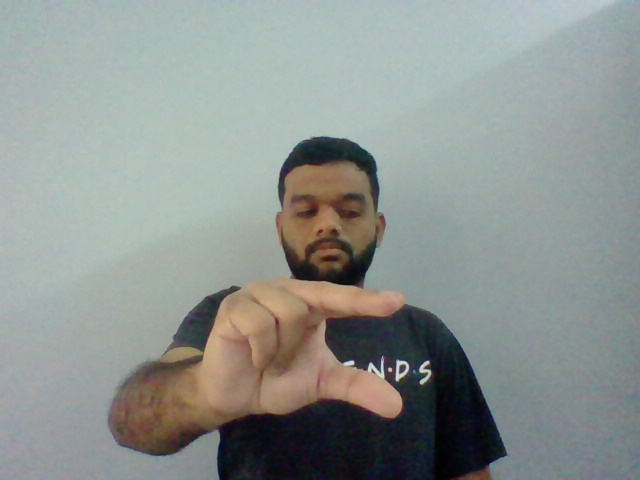No: (205, 275, 405, 419)
